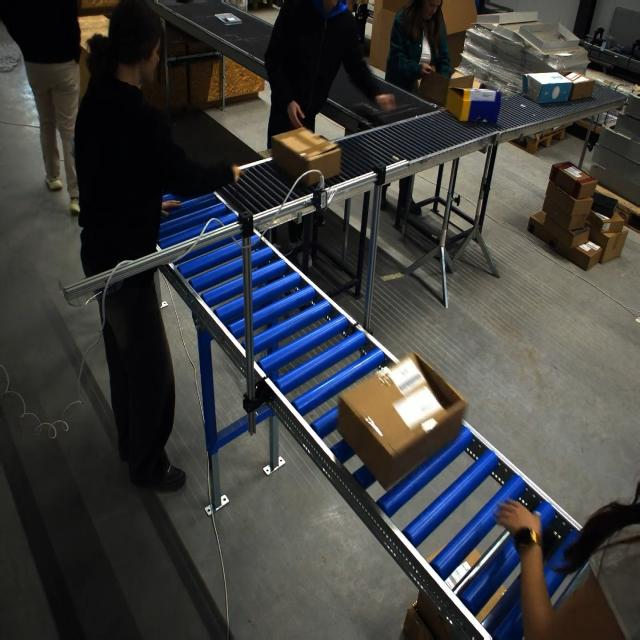box: (342, 358, 461, 478), (271, 126, 335, 184), (415, 67, 470, 110), (441, 85, 501, 123), (521, 71, 572, 105)
product: (214, 12, 242, 26)
